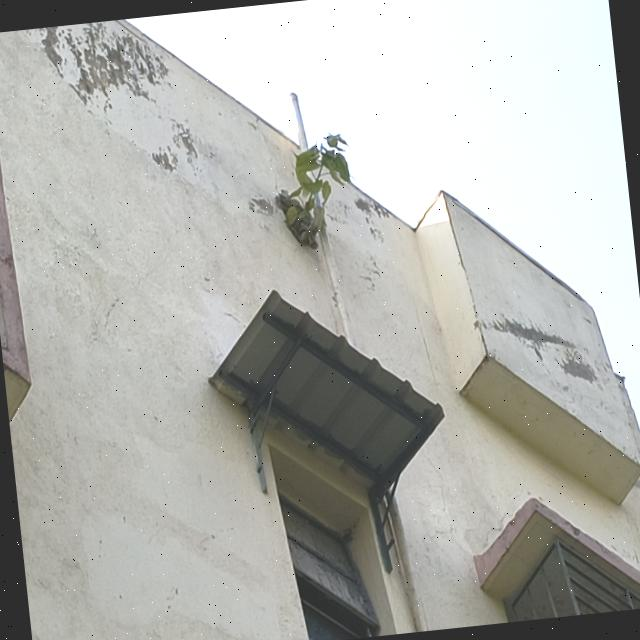Paint Peeling: (37, 21, 168, 109), (492, 319, 597, 383), (151, 122, 197, 172), (354, 193, 390, 242), (248, 197, 274, 215)
